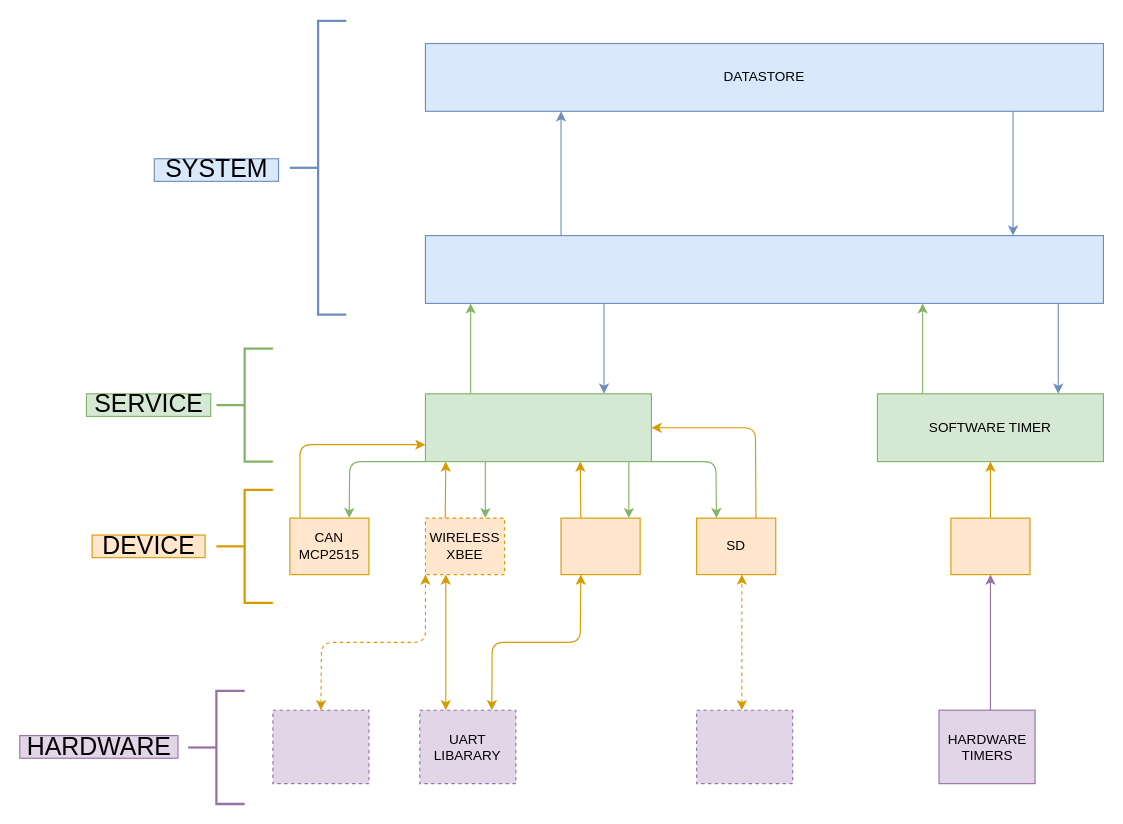
Some shapes in this 1123 by 824 pixel diagram are drawn without their labels. The shapes that lost their labels are listed below. From the top down, each one's box as (x1, y1, x2, y2) in pixels, then its label:
(424, 234, 1103, 303): SYSTEM MANGER
(424, 393, 651, 462): COMMUNCATIONS
(560, 517, 640, 575): SERIAL
(950, 517, 1030, 575): TIMERS
(272, 709, 369, 784): GPIO LIBARARY
(696, 709, 793, 784): SPI LIBARARY
